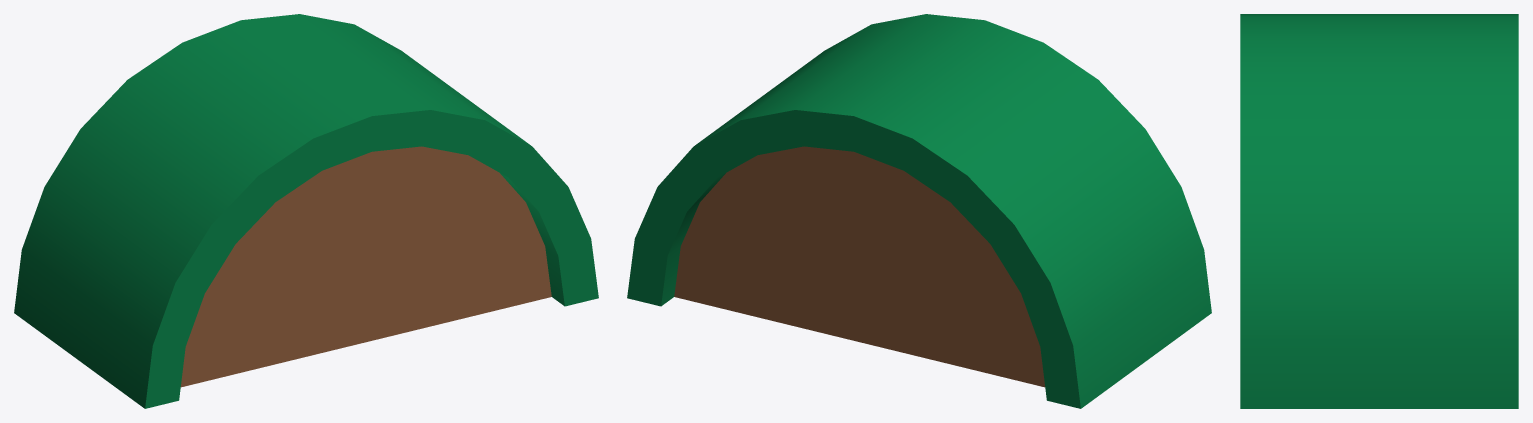
File: blockCurve.glb
3 views of the same model, side by side, from view 1: azimuth 30°, elevation 25°; view 2: azimuth 150°, elevation 25°; view 3: azimuth 270°, elevation 25° (orthographic). The views are drawn at different scales.
Visible parts, largest first — view 1: blockCurve; view 2: blockCurve; view 3: blockCurve.
Part boxes in pixels (left/top/right/bottom): blockCurve: left=14, top=14, right=598, bottom=408; blockCurve: left=627, top=14, right=1211, bottom=408; blockCurve: left=1240, top=14, right=1518, bottom=408.
Bounding box in the file's own units: 2 × 1 × 1.
